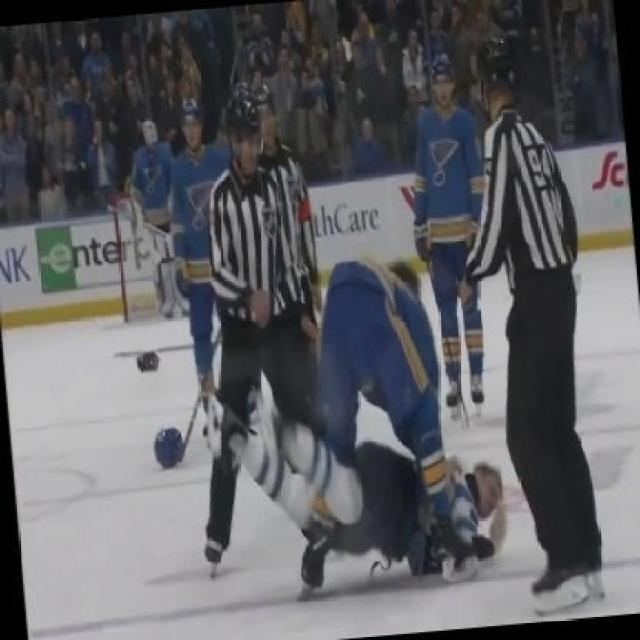fight: (192, 252, 508, 606)
non-fight: (452, 57, 614, 616), (192, 94, 342, 595), (404, 42, 488, 416), (166, 100, 236, 407), (123, 111, 191, 320)
